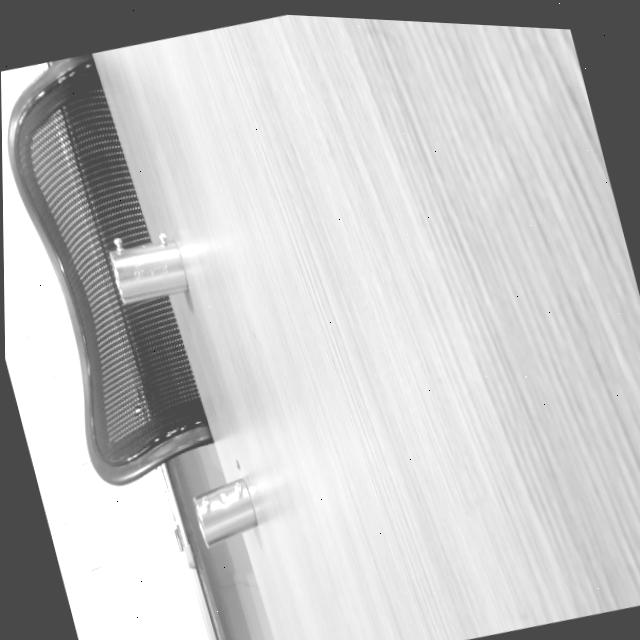Co_Lon: (105, 223, 189, 306)
Co_Nho: (187, 475, 263, 546)
